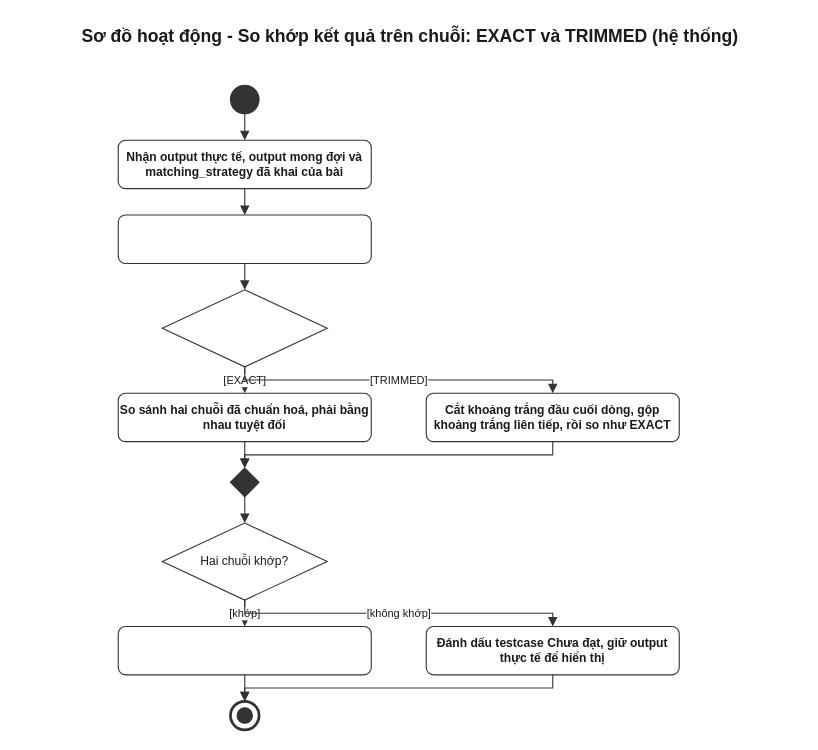
The diagram is 818 pixels wide and 750 high, and some of its shapes have lost their labels. Here are the shapes that lost their labels. From the top down, the centre of each, then its label:
At [244,238]: "Chuẩn hoá cả hai output theo định dạng in ấn của kiểu dữ liệu".
At [244,328]: "Chiến lược so khớp trên chuỗi nào?".
At [244,650]: "Đánh dấu testcase Đạt".
